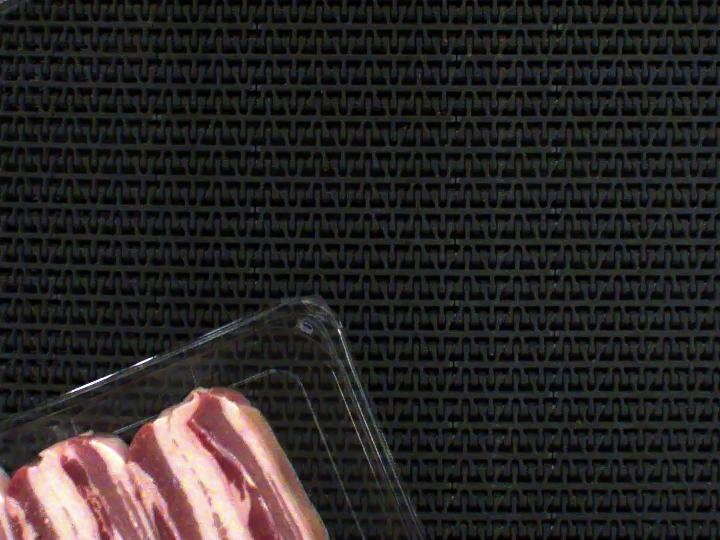packaging-error: (180, 356, 202, 394)
